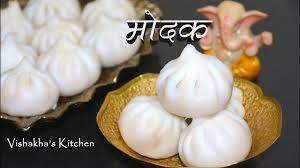modak: (155, 29, 230, 109), (122, 94, 193, 162), (2, 56, 67, 120), (180, 110, 250, 168), (81, 7, 143, 71), (39, 41, 96, 87)
